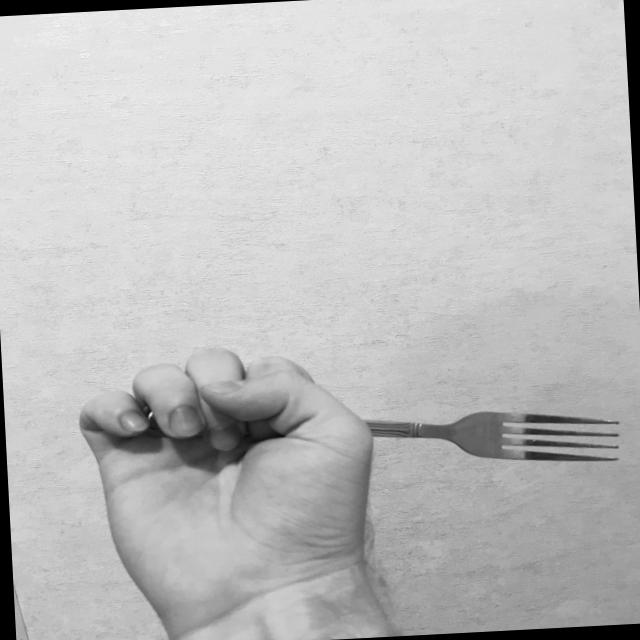fork: (71, 376, 624, 492)
